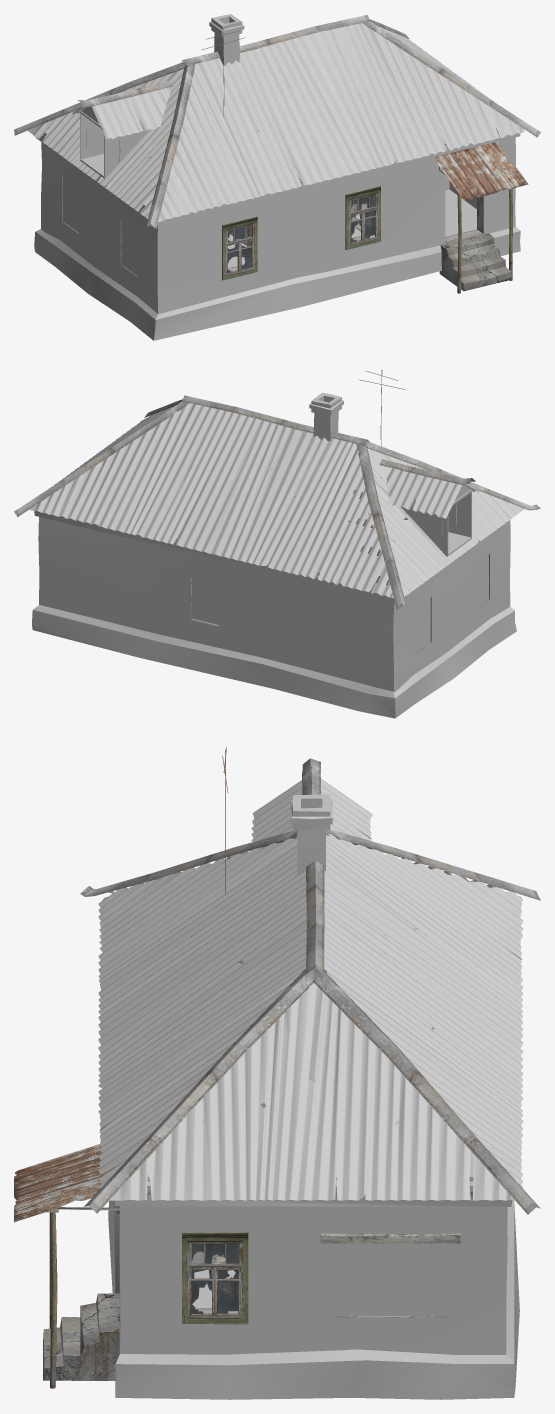
Rendered from Houses_Ready_09.FBX.
The picture shows the model from 3 angles, top to bottom: view 1: azimuth 30°, elevation 25°; view 2: azimuth 150°, elevation 25°; view 3: azimuth 270°, elevation 25°; orthographic projection. The views are drawn at different scales.
Visible parts, largest first — view 1: Roof_15_2, Corps_01_3, Foundation_05, Peak_04, Porch_03_1, Porch_03_2, Wood_Roof_15_2, Windows_11_2, Windows_11, Chimney_01, Window_08_Closed, Window_07_Closed (+1 smaller); view 2: Roof_15_2, Corps_01_3, Foundation_05, Peak_04, Wood_Roof_15_2, Window_08_Closed (×2), Chimney_01, Window_07_Closed, Peak_04_2; view 3: Roof_15_2, Corps_01_3, Foundation_05, Peak_04, Window_Big_01_Closed, Porch_03_1, Porch_03_2, Windows_11_2, Chimney_01.
Part boxes in pixels (x1,y1,x2,y2): Roof_15_2: (27, 23, 524, 221); Corps_01_3: (35, 127, 520, 314); Foundation_05: (34, 227, 520, 340); Peak_04: (14, 15, 540, 228); Porch_03_1: (435, 142, 528, 293); Porch_03_2: (439, 233, 511, 291); Wood_Roof_15_2: (80, 101, 177, 178); Windows_11_2: (345, 186, 380, 249); Windows_11: (222, 216, 257, 280); Chimney_01: (209, 14, 244, 65); Window_08_Closed: (121, 220, 137, 275); Window_07_Closed: (63, 177, 78, 232); Roof_15_2: (29, 403, 524, 598); Corps_01_3: (34, 511, 511, 692); Foundation_05: (32, 605, 516, 718); Peak_04: (14, 395, 540, 609); Wood_Roof_15_2: (393, 484, 471, 556); Window_08_Closed (×2): (192, 555, 488, 624); Chimney_01: (309, 392, 343, 441); Window_07_Closed: (415, 597, 430, 652); Peak_04_2: (379, 459, 475, 484); Roof_15_2: (98, 779, 523, 1200); Corps_01_3: (115, 1165, 512, 1354); Foundation_05: (108, 1198, 519, 1399); Peak_04: (80, 829, 540, 1214); Window_Big_01_Closed: (333, 1243, 446, 1315); Porch_03_1: (14, 1144, 119, 1388); Porch_03_2: (43, 1293, 119, 1380); Windows_11_2: (182, 1232, 248, 1324); Chimney_01: (290, 794, 332, 969).
Bounding box in the file's own units: 1290 × 896 × 840.
